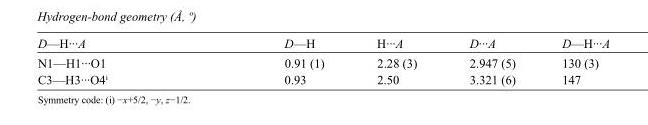table: (36, 36, 609, 85)
table column: (36, 36, 195, 85), (195, 36, 349, 85), (442, 36, 538, 85), (349, 36, 442, 85), (538, 36, 609, 85)
table row: (36, 52, 609, 71), (36, 36, 609, 52), (36, 71, 609, 85)
